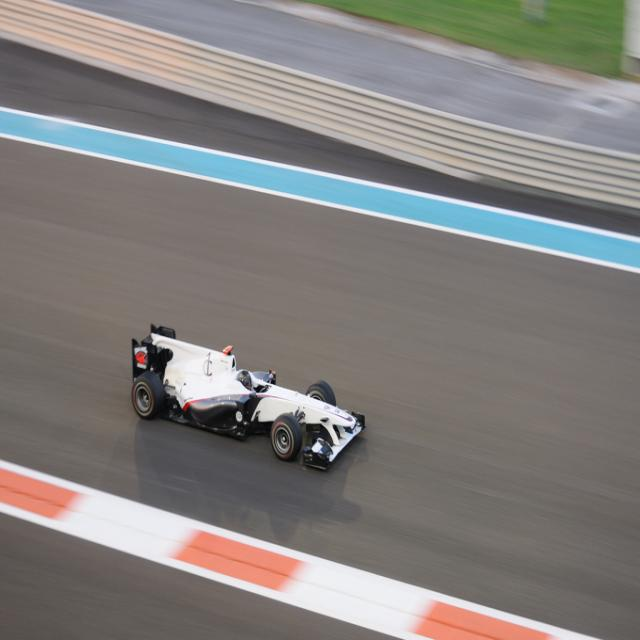car: (139, 325, 351, 459)
